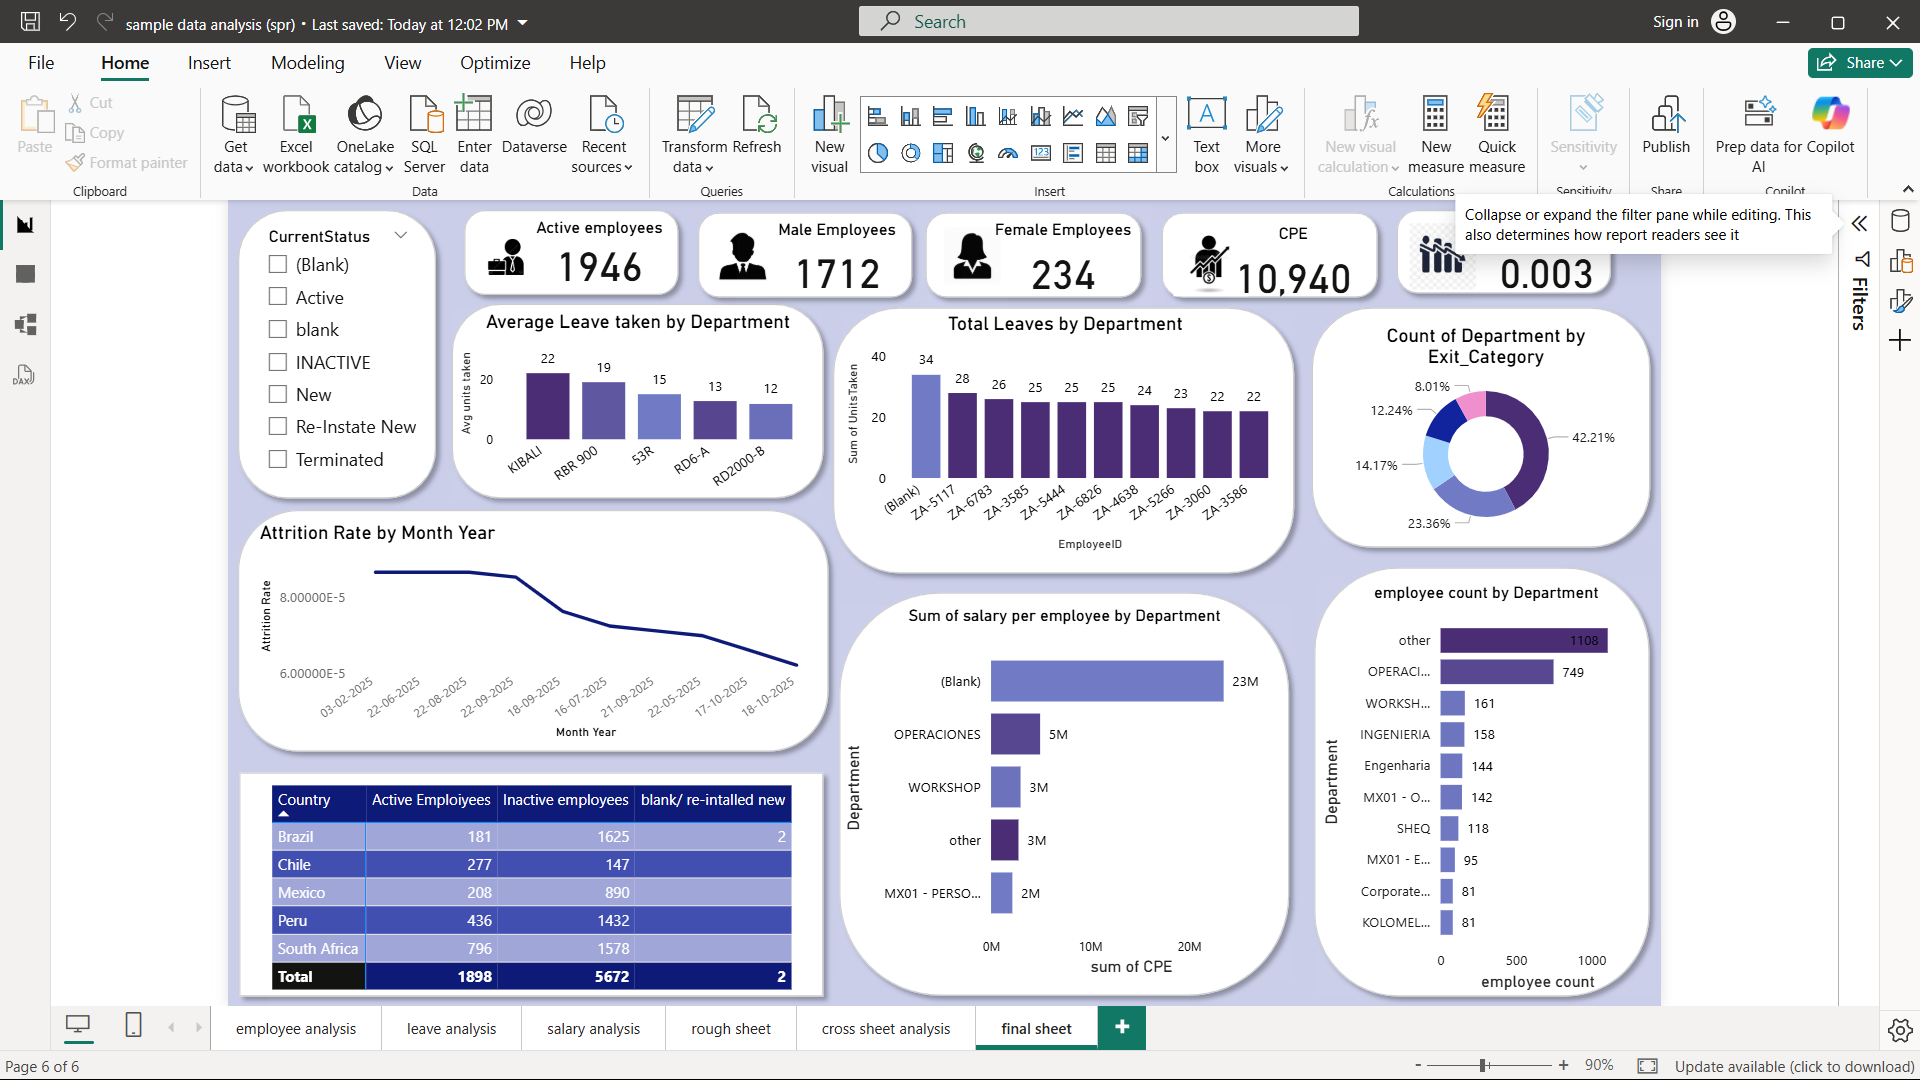

The page's visual inventory and layout, read from the dashboard file:
{"tool":"powerbi","page":{"name":"final sheet","canvas":[1280,720],"ordinal":5},"visuals":[{"type":"shape","box":[0,0,194.8,275.6],"z":0},{"type":"shape","box":[202,0,209.2,93.8],"z":0,"group":"g2"},{"type":"group","id":"g1","title":"Group 5","box":[1035.4,0,209.1,101],"z":0,"group":"g3"},{"type":"shape","box":[1035.4,0,209.2,92.3],"z":0,"group":"g1"},{"type":"shape","box":[411,2.3,209.2,93.8],"z":0,"group":"g5"},{"type":"shape","box":[190.6,83.9,350,191.8],"z":0,"group":"g4"},{"type":"group","id":"g2","title":"Group 3","box":[202,0,209.1,101],"z":1000,"group":"g10"},{"type":"image","box":[216.4,0,63.5,101],"z":1000,"group":"g2"},{"type":"group","id":"g3","title":"Group 4","box":[1035.4,0,209.1,101],"z":1000,"group":"g6"},{"type":"image","box":[1051.3,0,69.3,101],"z":1000,"group":"g1"},{"type":"shape","box":[614.4,2.3,210.6,93.8],"z":1000,"group":"g9"},{"type":"image","box":[425.4,4.8,69.3,90.9],"z":1000,"group":"g5"},{"type":"slicer","fields":{"Values":["Employee Master.CurrentStatus"]},"box":[23.1,18.8,150,236.6],"z":1000},{"type":"columnChart","title":"Average Leave taken by Department","fields":{"Y":["Avg(Leave.UnitsTaken)"],"Category":["Employee Master.Department"]},"box":[201.8,98.1,328.5,170.7],"z":1000,"group":"g4"},{"type":"image","box":[634.6,5.5,62,89.5],"z":2000,"group":"g9"},{"type":"shape","box":[0,268.4,545.4,233.7],"z":2000},{"type":"shape","box":[824.9,2.3,210.6,93.8],"z":3000,"group":"g8"},{"type":"card","title":"Active employees","fields":{"Values":["Employee Master.Active Emploiyees"]},"box":[264.2,15.6,134.2,64.7],"z":3000,"group":"g10"},{"type":"card","title":"Cost Per Employee","fields":{"Values":["Employee Master.CPE"]},"box":[665.6,150.8,133.7,62.6],"z":3000},{"type":"lineChart","fields":{"Y":["Employee Master.Attrition Rate"],"Category":["Employee Master.Month Year.Variation.Date Hierarchy.Month"]},"box":[23.1,287.1,506.4,199.1],"z":4000},{"type":"card","title":"Female Employees","fields":{"Values":["Employee Master.Active Emploiyees"]},"box":[655,17.9,183.5,75.4],"z":5000,"group":"g9"},{"type":"shape","box":[532,86.6,429.9,255.4],"z":5000},{"type":"image","box":[839.3,4.8,76.5,90.9],"z":6000,"group":"g8"},{"type":"columnChart","title":"Total Leaves by Department","fields":{"Category":["Employee Master.EmployeeID"],"Y":["Sum(Leave.UnitsTaken)"]},"box":[547.9,101,399.6,217.9],"z":6000},{"type":"shape","box":[537.1,341.9,419.8,378],"z":7000},{"type":"clusteredBarChart","fields":{"Category":["Employee Master.Department"],"Y":["Sum(Salary.salary per employee)"]},"box":[546.4,363.1,402.7,335.6],"z":8000},{"type":"shape","box":[1.4,502.1,539.6,217.9],"z":9000},{"type":"pivotTable","fields":{"Rows":["Employee Master.Country"],"Values":["Employee Master.Active Emploiyees","Employee Master.Inactive employees","Employee Master.blank/ re-intalled new"]},"box":[34.6,518,474.7,202],"z":10000},{"type":"shape","box":[958.7,86.6,320.3,232.3],"z":11000},{"type":"donutChart","fields":{"Category":["Employee Master.Exit_Category"],"Y":["CountNonNull(Salary.Department)"]},"box":[978.2,111.1,291.4,194.8],"z":12000},{"type":"shape","box":[960.9,318.9,317.4,401.1],"z":13000},{"type":"barChart","fields":{"Category":["Employee Master.Department"],"Y":["Salary.employee count"]},"box":[972.4,341.9,303,369.3],"z":14000},{"type":"group","id":"g4","title":"Group 6","box":[190.6,83.9,349.9,192],"z":15000},{"type":"group","id":"g5","title":"Group 1","box":[411,2.3,223.3,93.9],"z":16000},{"type":"group","id":"g6","title":"Group 2","box":[1035.4,0,209.1,101],"z":17000},{"type":"group","id":"g7","title":"Group 7","box":[202,0,209.1,101],"z":18000},{"type":"group","id":"g8","title":"Group 9","box":[824.9,2.3,210.5,93.9],"z":19000},{"type":"group","id":"g9","title":"Group 10","box":[614.4,2.3,224.7,93.9],"z":20000},{"type":"card","title":"Attrition Rate","fields":{"Values":["Employee Master.Attrition Rate"]},"box":[1112.8,15.6,132.3,76.8],"z":22000,"group":"g6"},{"type":"card","title":"Male Employees","fields":{"Values":["Employee Master.Active Emploiyees"]},"box":[454.9,17.9,179.2,74],"z":22000,"group":"g5"},{"type":"card","title":"CPE","fields":{"Values":["Employee Master.CPE"]},"box":[893.2,20.8,116.6,75.4],"z":22000,"group":"g8"},{"type":"group","id":"g10","title":"Group 8","box":[202,0,209.1,101],"z":25001,"group":"g7"}]}

Visuals, with their boxes on the page's 1280x720 design canvas (x1, y1, x2, y2). These are canvas units, not pixel positions in the 1920x1080 screenshot, which may show the page scaled, cropped or inside an application window:
shape: box=[0, 0, 195, 276]
shape: box=[202, 0, 411, 94]
"Group 5" group: box=[1035, 0, 1244, 101]
shape: box=[1035, 0, 1245, 92]
shape: box=[411, 2, 620, 96]
shape: box=[191, 84, 541, 276]
"Group 3" group: box=[202, 0, 411, 101]
image: box=[216, 0, 280, 101]
"Group 4" group: box=[1035, 0, 1244, 101]
image: box=[1051, 0, 1121, 101]
shape: box=[614, 2, 825, 96]
image: box=[425, 5, 495, 96]
slicer - Employee Master.CurrentStatus: box=[23, 19, 173, 255]
"Average Leave taken by Department" columnChart: box=[202, 98, 530, 269]
image: box=[635, 6, 697, 95]
shape: box=[0, 268, 545, 502]
shape: box=[825, 2, 1036, 96]
"Active employees" card: box=[264, 16, 398, 80]
"Cost Per Employee" card: box=[666, 151, 799, 213]
lineChart - Employee Master.Attrition Rate x Employee Master.Month Year.Variation.Date Hierarchy.Month: box=[23, 287, 530, 486]
"Female Employees" card: box=[655, 18, 838, 93]
shape: box=[532, 87, 962, 342]
image: box=[839, 5, 916, 96]
"Total Leaves by Department" columnChart: box=[548, 101, 948, 319]
shape: box=[537, 342, 957, 720]
clusteredBarChart - Employee Master.Department x Sum(Salary.salary per employee): box=[546, 363, 949, 699]
shape: box=[1, 502, 541, 720]
pivotTable - Employee Master.Country x Employee Master.Active Emploiyees: box=[35, 518, 509, 720]
shape: box=[959, 87, 1279, 319]
donutChart - Employee Master.Exit_Category x CountNonNull(Salary.Department): box=[978, 111, 1270, 306]
shape: box=[961, 319, 1278, 720]
barChart - Employee Master.Department x Salary.employee count: box=[972, 342, 1275, 711]
"Group 6" group: box=[191, 84, 540, 276]
"Group 1" group: box=[411, 2, 634, 96]
"Group 2" group: box=[1035, 0, 1244, 101]
"Group 7" group: box=[202, 0, 411, 101]
"Group 9" group: box=[825, 2, 1035, 96]
"Group 10" group: box=[614, 2, 839, 96]
"Attrition Rate" card: box=[1113, 16, 1245, 92]
"Male Employees" card: box=[455, 18, 634, 92]
"CPE" card: box=[893, 21, 1010, 96]
"Group 8" group: box=[202, 0, 411, 101]
